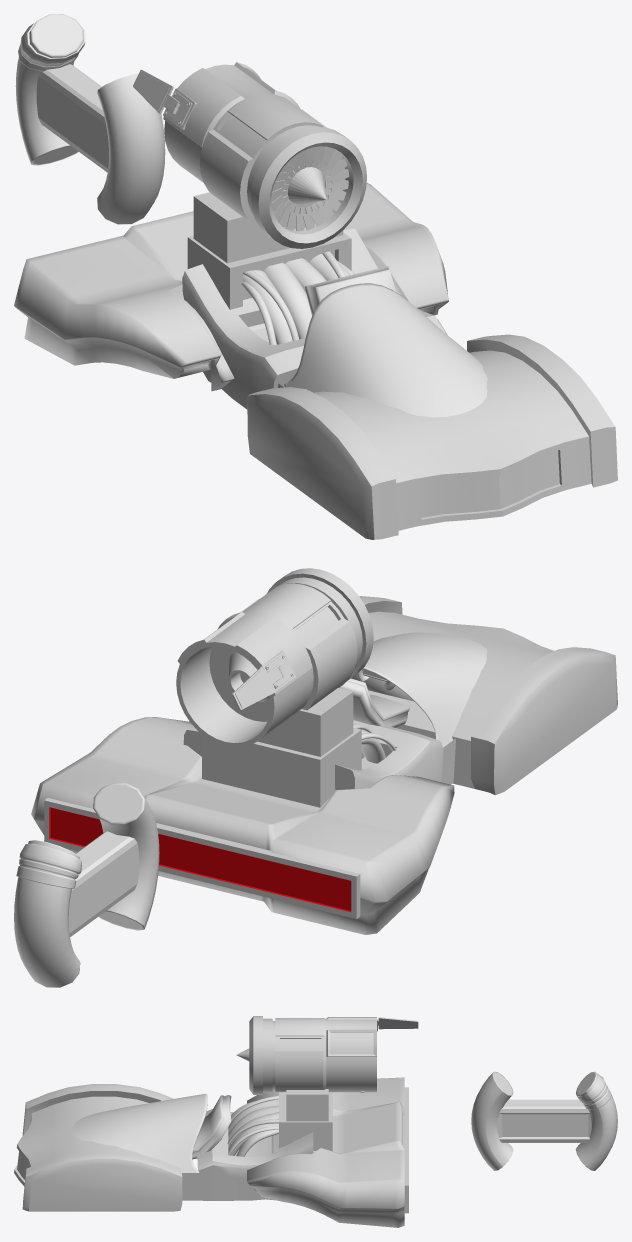
The model's file is naves.fbx.
The picture shows the model from 3 angles, top to bottom: view 1: azimuth 30°, elevation 25°; view 2: azimuth 150°, elevation 25°; view 3: azimuth 270°, elevation 25°; orthographic projection. The views are drawn at different scales.
Parts seen in each view (by area): view 1: Cube.008, Cube.012, Cylinder, Plane, Cube.005, Torus, Cube.002, Torus.001, Cube.007, Cube, Cube.001, BézierCurve.002 (+5 smaller); view 2: Cube.012, Cube.008, Cylinder, Cube.011, Plane, Cube, Torus.001, Torus, Cube.002, Cube.005, Cube.001, Torus.002 (+3 smaller); view 3: Cube.008, Cube.012, Cylinder, Plane, Cube.005, Cube.002, Torus, Torus.001, Cube, Cube.001, Cube.003, Cube.011 (+7 smaller).
Part boxes in pixels (x1,y1,x2,y2): Cube.008: (247, 334, 617, 539); Cube.012: (14, 183, 448, 391); Cylinder: (163, 62, 366, 248); Plane: (284, 283, 487, 417); Cube.005: (182, 228, 447, 409); Torus: (97, 73, 165, 224); Cube.002: (36, 64, 108, 172); Torus.001: (15, 14, 83, 165); Cube.007: (271, 146, 349, 231); Cube: (187, 232, 351, 309); Cube.001: (193, 192, 343, 263); BézierCurve.002: (263, 263, 311, 339); Cube.012: (31, 717, 454, 934); Cube.008: (359, 596, 617, 795); Cylinder: (176, 568, 373, 747); Cube.011: (44, 798, 360, 919); Plane: (363, 632, 487, 747); Cube: (202, 727, 361, 807); Torus.001: (14, 840, 80, 987); Torus: (93, 783, 159, 930); Cube.002: (68, 831, 139, 936); Cube.005: (183, 720, 443, 789); Cube.001: (257, 688, 353, 756); Torus.002: (16, 843, 81, 888); Cube.008: (14, 1084, 182, 1211); Cube.012: (247, 1077, 404, 1227); Cylinder: (249, 1016, 376, 1094); Plane: (71, 1093, 207, 1172); Cube.005: (197, 1109, 313, 1200); Cube.002: (497, 1099, 591, 1142); Torus: (471, 1071, 513, 1170); Torus.001: (575, 1071, 617, 1170); Cube: (279, 1092, 332, 1151); Cube.001: (286, 1089, 328, 1121); Cube.003: (192, 1095, 231, 1159); Cube.011: (402, 1087, 408, 1213).
Bounding box in the file's own units: 366 × 236 × 832.
